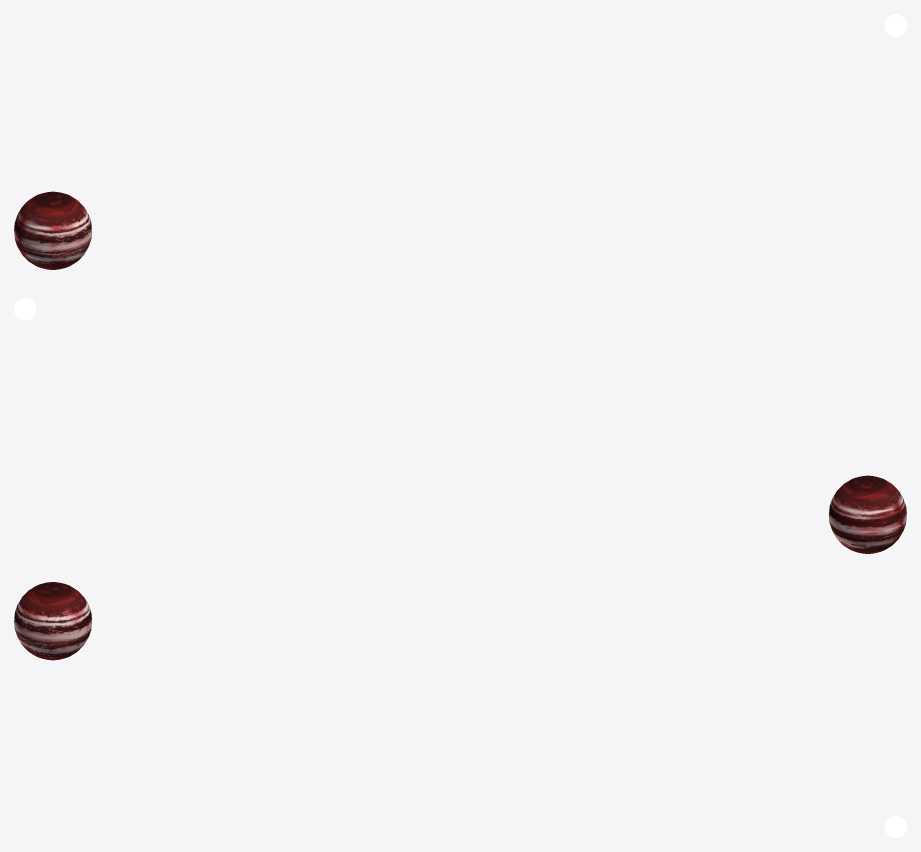
Rendered from tres-2b.glb.
3 views of the same model, one above another, from view 1: azimuth 30°, elevation 25°; view 2: azimuth 150°, elevation 25°; view 3: azimuth 330°, elevation 25° (orthographic).
Parts seen in each view (by area): view 1: Sphere_Material.001_0; view 2: Sphere_Material.001_0; view 3: Sphere_Material.001_0.
Boxes of the visible parts, box(x1,y1,x2,y2) form: Sphere_Material.001_0: box(14, 191, 91, 269); Sphere_Material.001_0: box(829, 475, 906, 553); Sphere_Material.001_0: box(14, 582, 91, 660).
Size of the model in its own units: 1988 by 152 by 152.
Materials: 2 (1 with a texture image).
